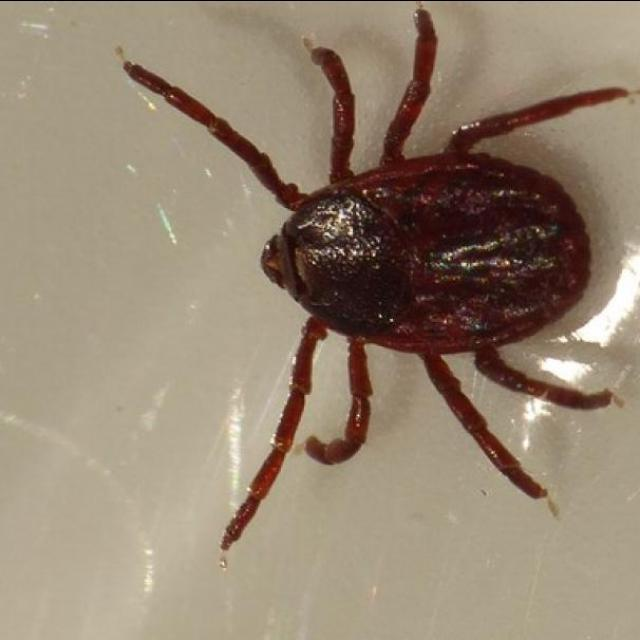Rhipicephalus Sanguineus-F: (125, 7, 637, 546)
